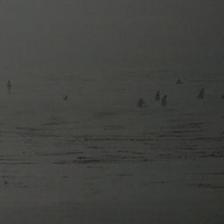surfer: (197, 89, 206, 100), (135, 99, 146, 108), (160, 94, 168, 106), (154, 90, 162, 100), (175, 78, 184, 84), (6, 79, 12, 88), (62, 95, 68, 101)
